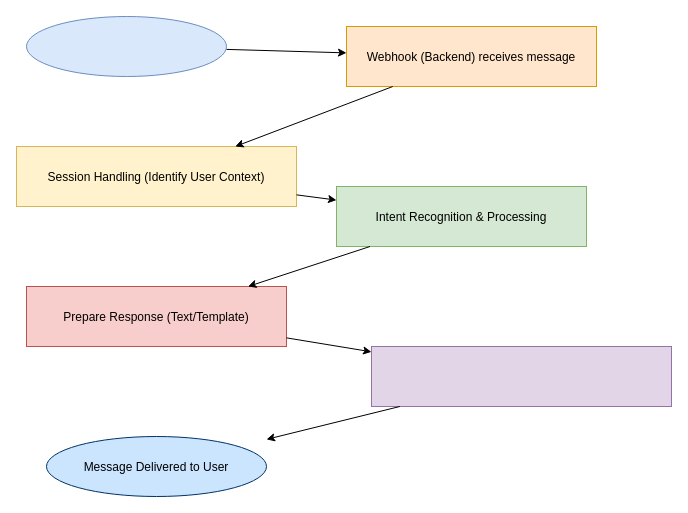
This 688x513 diagram has some shape labels left out. Here are the shapes that lost their labels. From the top down, the centre of each, then its label:
[126,46]: User sends message on WhatsApp
[521,376]: Send Response via WhatsApp Cloud API
